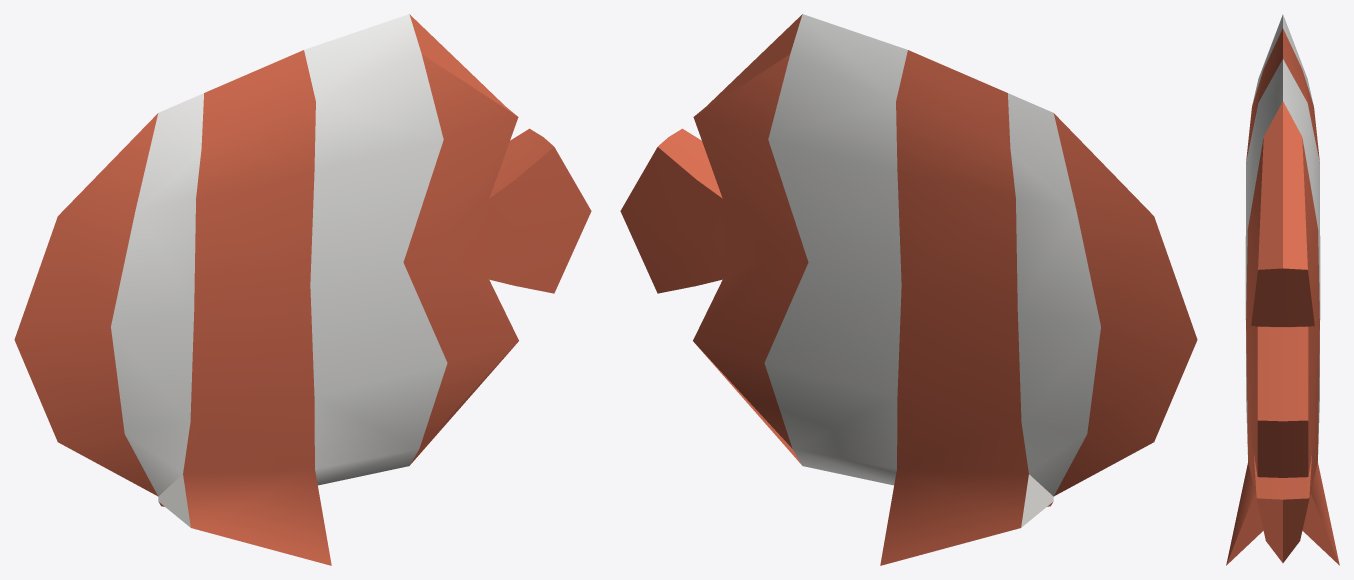
Rendered from Fish_03.fbx.
The picture shows the model from 3 angles, left to right: view 1: azimuth 30°, elevation 25°; view 2: azimuth 150°, elevation 25°; view 3: azimuth 270°, elevation 25°; orthographic projection. The views are drawn at different scales.
Visible parts, largest first — view 1: Fish_03_LOD0; view 2: Fish_03_LOD0; view 3: Fish_03_LOD0.
Part boxes in pixels (left/top/right/bottom): Fish_03_LOD0: left=14, top=14, right=591, bottom=565; Fish_03_LOD0: left=620, top=14, right=1197, bottom=565; Fish_03_LOD0: left=1226, top=14, right=1339, bottom=565.
Size of what is drawn, in the model's own units: 0.2528 by 0.2158 by 0.043.
